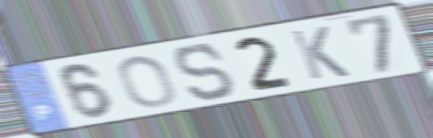2: (234, 35, 294, 93)
6: (58, 61, 117, 121)
7: (341, 11, 395, 76)
K: (286, 24, 353, 82)
O: (115, 54, 179, 109)
S: (172, 42, 239, 104)
